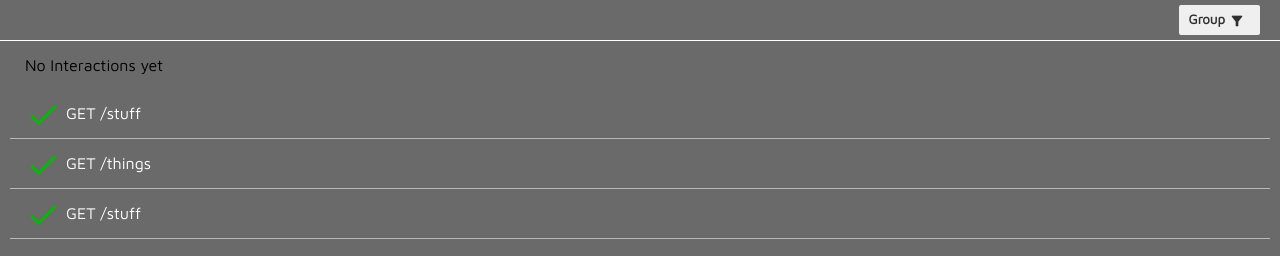
Test case: grouped › shows a request multiplier when multiple of the same matched request are passed
Click the button "Group" at (1219, 20), box top-left (1178, 5), bottom-right (1260, 35)
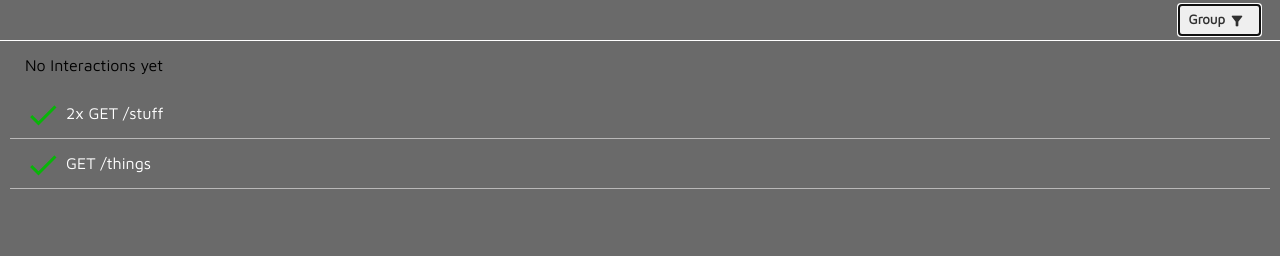
Expected: the link "GET /things" is shown, top-left (25, 154), bottom-right (151, 172)
Expected: the link "2x GET /stuff" is shown, top-left (25, 104), bottom-right (164, 122)
